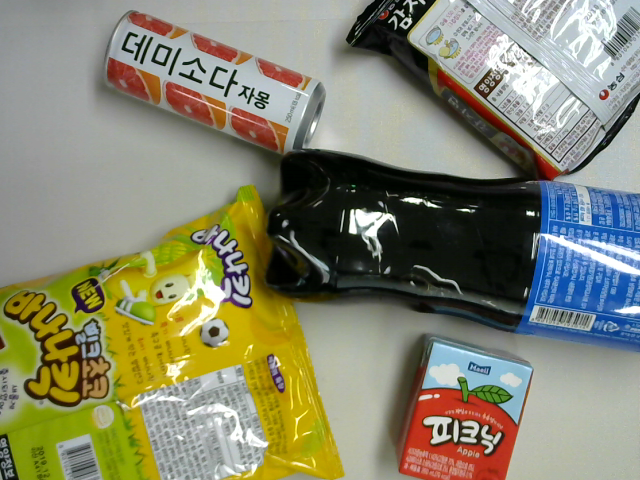Banana_Kick: (1, 181, 349, 480)
Demisoda_Grapefruit_Can_250ml: (99, 10, 330, 159)
Pepsi_Cola_1.5L: (264, 148, 640, 352)
Picnic_Apple: (394, 330, 535, 480)
Potato: (344, 1, 640, 184)
